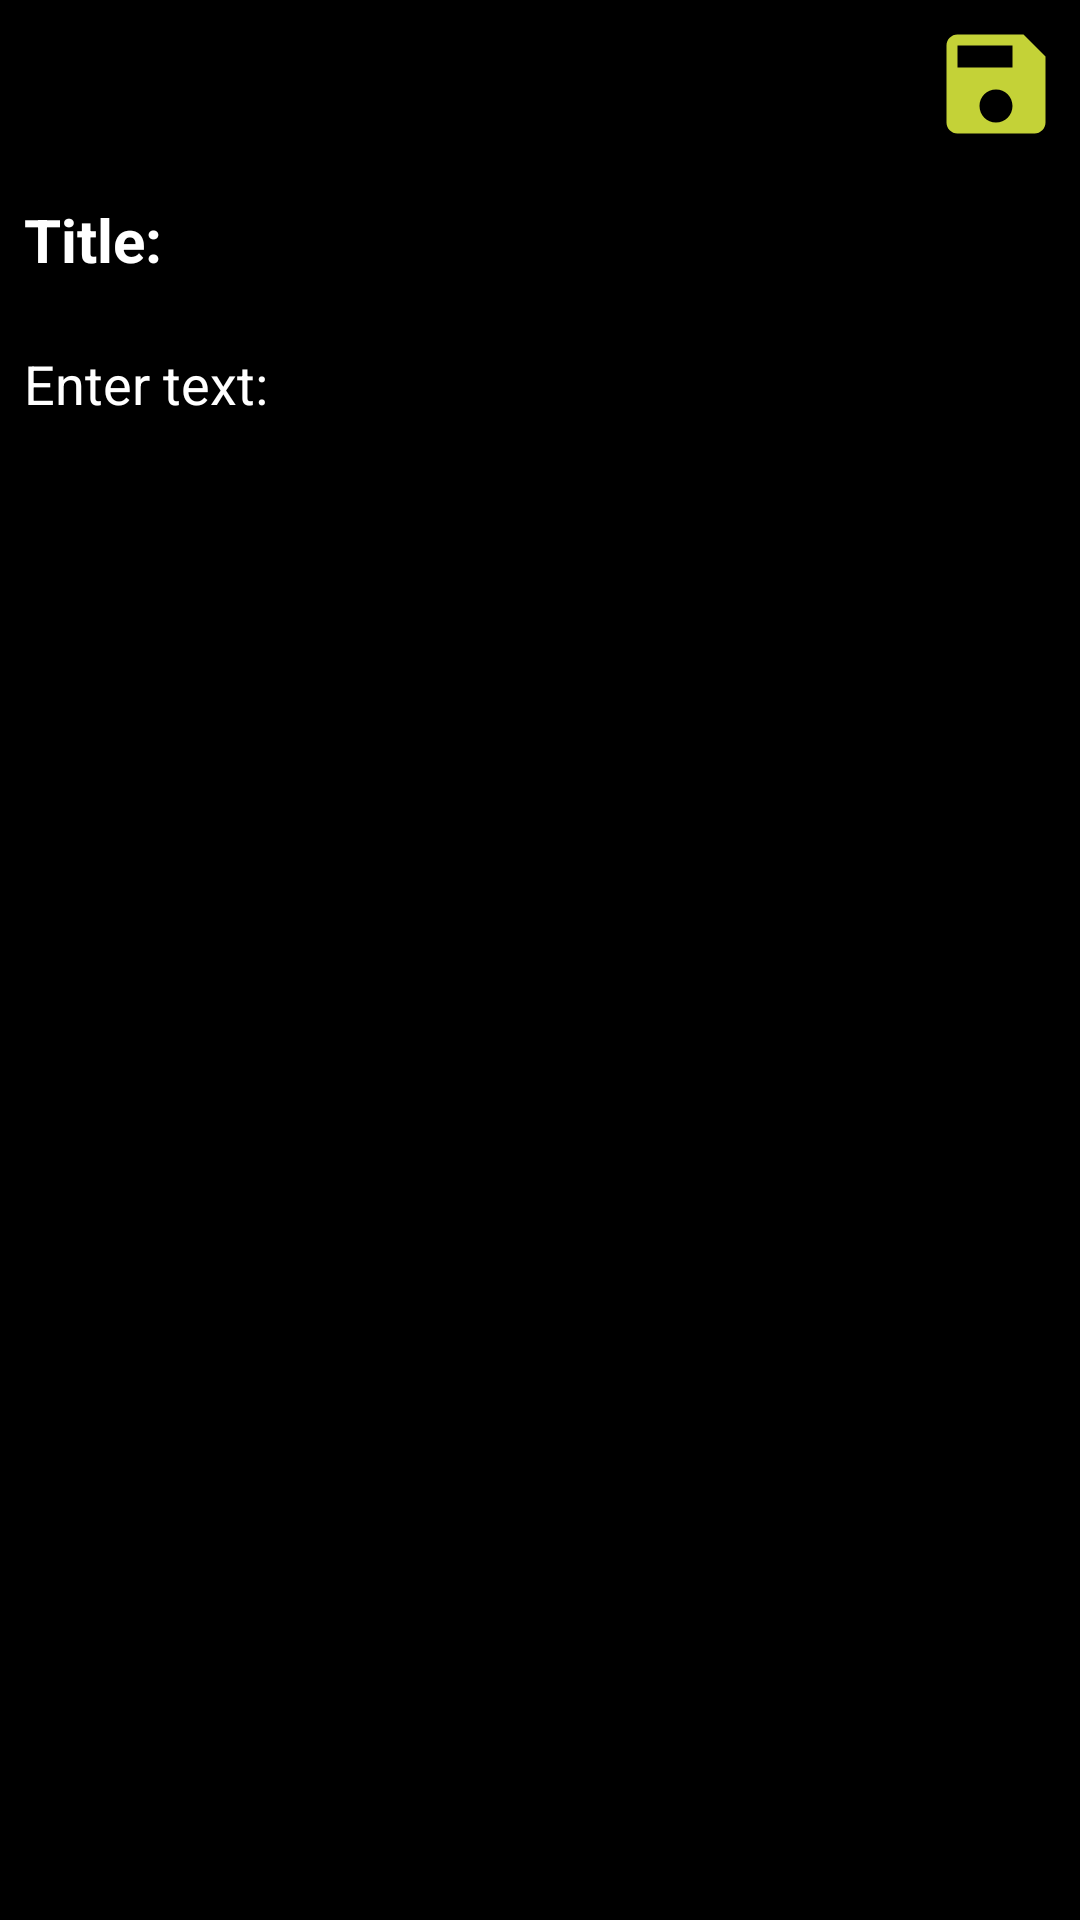

Locate icon controls on the screen. Image size 1080×1920, boxes as (x1, y1, x2, y2).
save: (946, 34, 1046, 134)
